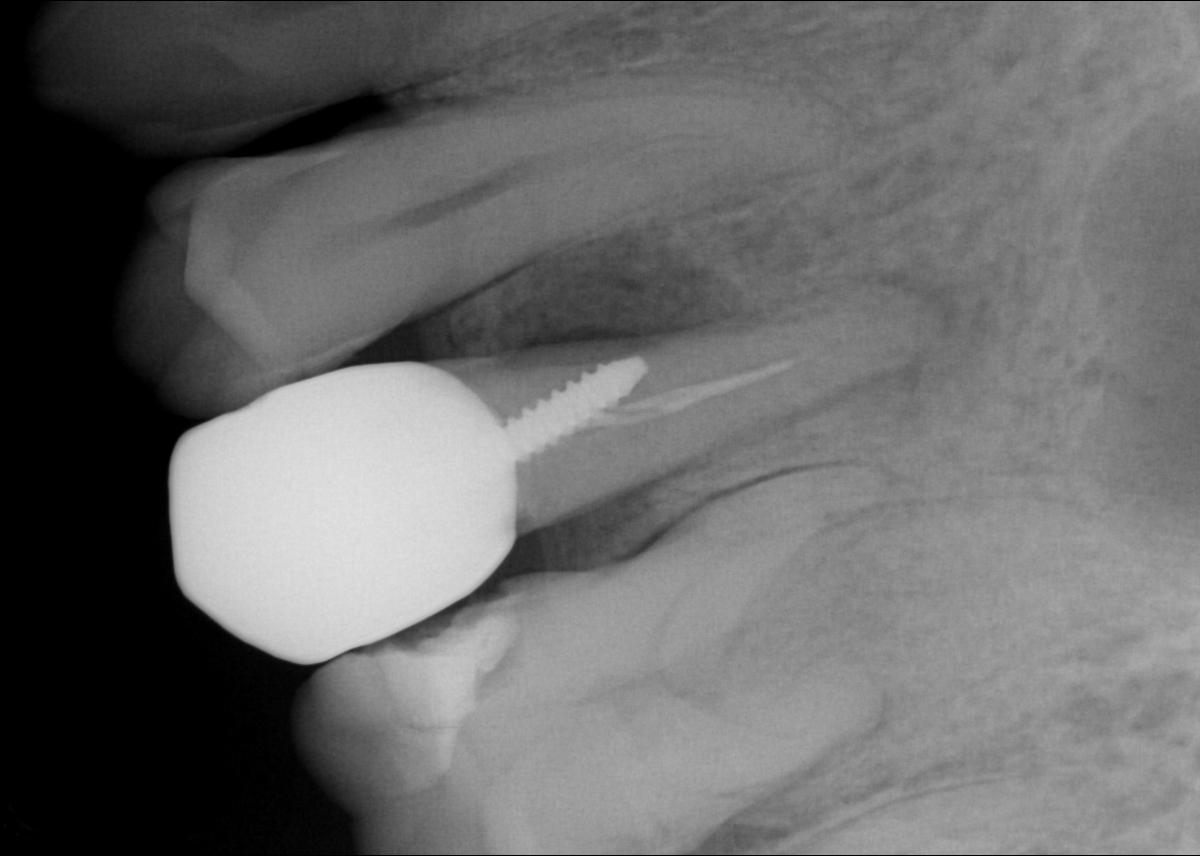Dental Caries: (480, 228, 763, 356), (857, 270, 998, 391)
